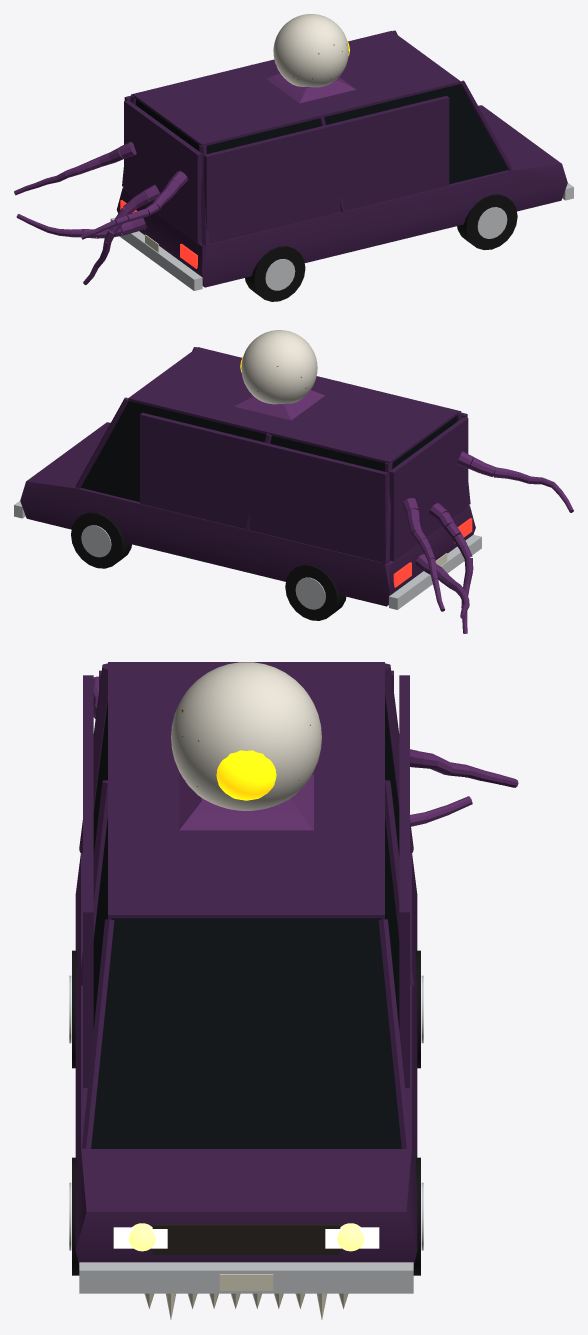
Rendered from SM_80s_Car_EyeballVan.glb.
3 renders of one model, top to bottom at view 1: azimuth 30°, elevation 25°; view 2: azimuth 150°, elevation 25°; view 3: azimuth 270°, elevation 25°, orthographic. The views are drawn at different scales.
Parts seen in each view (by area): view 1: SM_80s_Car_EyeballVan; view 2: SM_80s_Car_EyeballVan; view 3: SM_80s_Car_EyeballVan.
Boxes of the visible parts, x1,y1,x2,y2 form: SM_80s_Car_EyeballVan: (14,14,573,301); SM_80s_Car_EyeballVan: (14,330,573,633); SM_80s_Car_EyeballVan: (69,662,518,1319).
Size of the model in its own units: 6.2 by 2.87 by 2.5.
